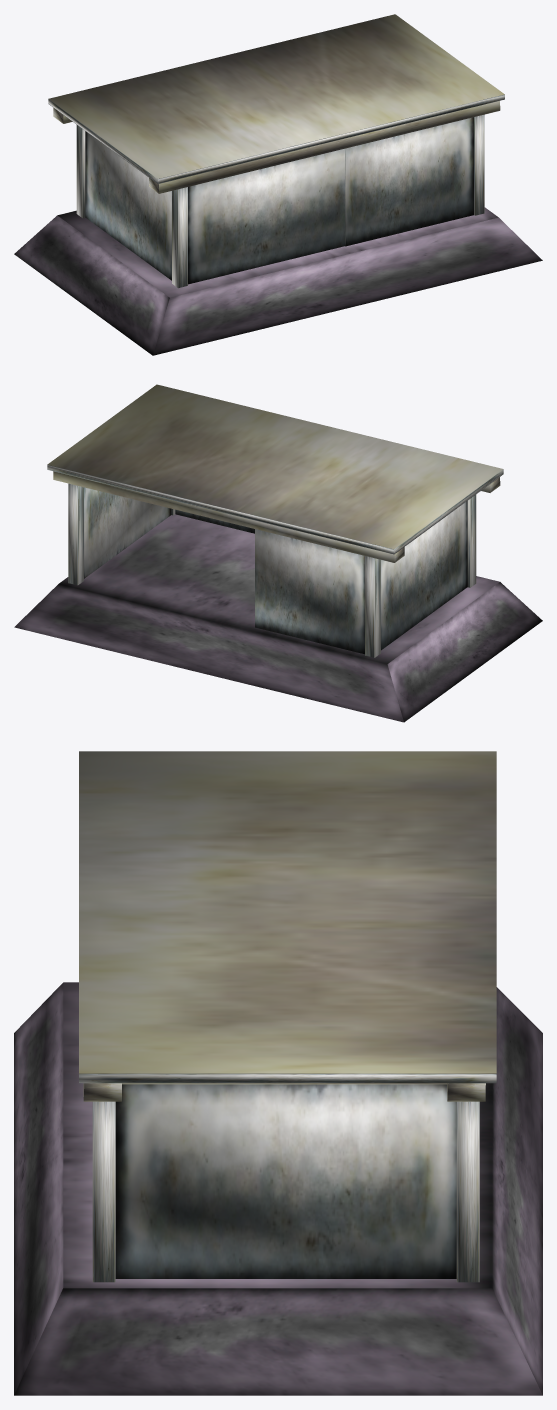
Rendered from metal_shed_9x3.DAE.
3 renders of one model, top to bottom at view 1: azimuth 30°, elevation 25°; view 2: azimuth 150°, elevation 25°; view 3: azimuth 270°, elevation 25°, orthographic. The views are drawn at different scales.
Visible parts, largest first — view 1: Box02; view 2: Box02; view 3: Box02.
Boxes of the visible parts, <box> form: Box02: <box>14,14,542,355</box>; Box02: <box>14,384,542,722</box>; Box02: <box>14,751,542,1395</box>.
Bounding box in the file's own units: 11.45 × 4.46 × 7.06.
